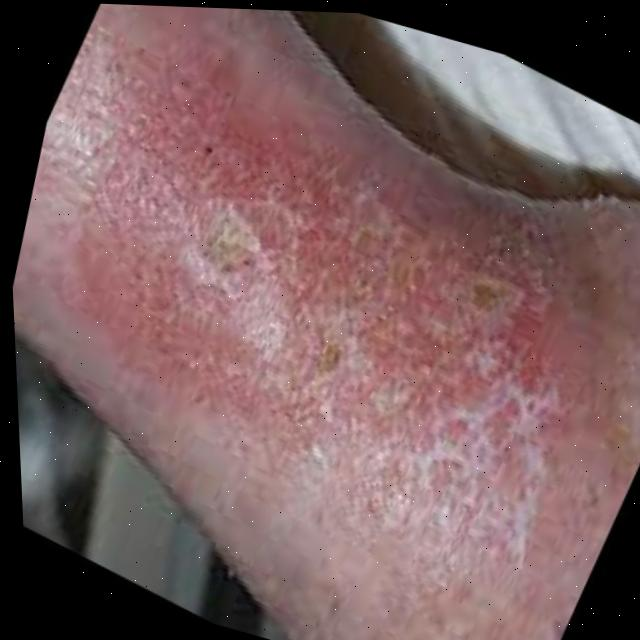Eczema: (2, 44, 640, 571)
